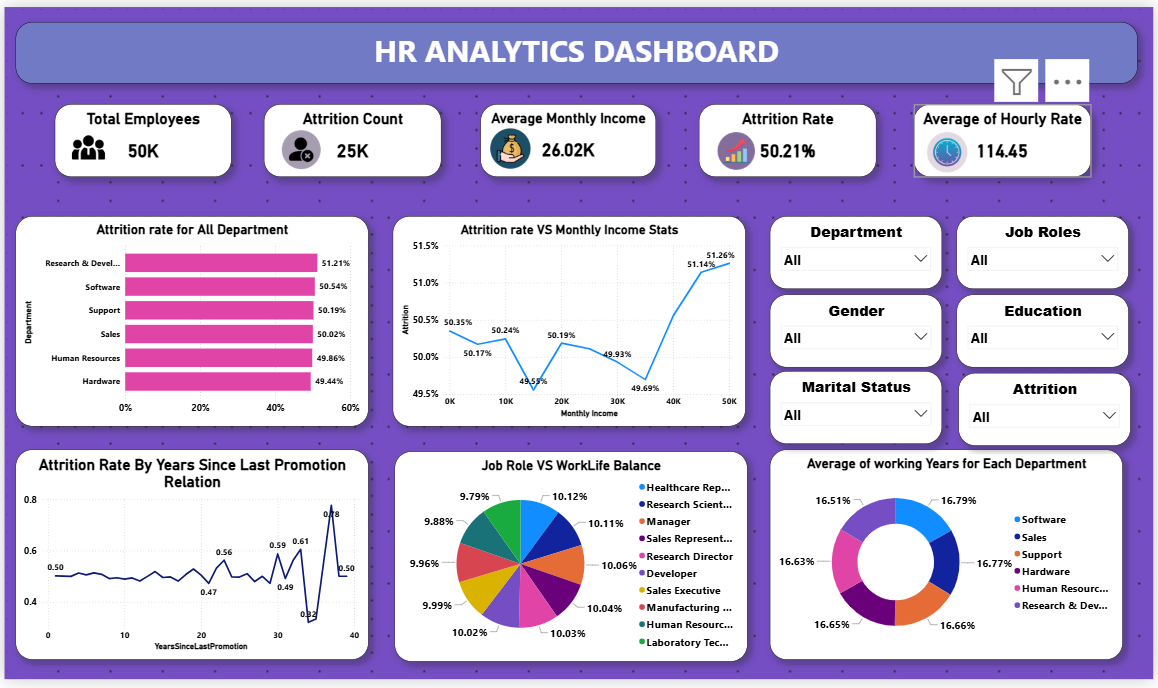

Layout of this report page (visuals, bound fields, positions):
{"tool":"powerbi","page":{"name":"dashboard","canvas":[2050,1200],"ordinal":6},"visuals":[{"type":"card","title":"Total Employees","fields":{"Values":["Sheet1.total employees"]},"box":[90,172.5,315,130],"z":0},{"type":"card","title":"Attrition Count","fields":{"Values":["Sheet1.attrition count"]},"box":[463.3,173.3,316.7,130],"z":1000},{"type":"card","title":"Average Monthly Income","fields":{"Values":["Avg(Sheet1.Monthly Income)"]},"box":[850,173.3,313.3,130],"z":2000},{"type":"card","title":"Attrition Rate","fields":{"Values":["Sheet1.attrition rate"]},"box":[1240,173.3,316.7,130],"z":3000},{"type":"clusteredBarChart","title":"Attrition rate for All Department","fields":{"Category":["Sheet1.Department"],"Y":["Sheet1.attrition rate"]},"box":[20,372.5,630,375],"z":4000},{"type":"textbox","box":[20,26.7,2003.3,110],"z":5000},{"type":"card","title":"Average of Hourly Rate","fields":{"Values":["Avg(Sheet1.HourlyRate)"]},"box":[1623.3,173.3,316.7,130],"z":6000},{"type":"lineChart","title":"Attrition rate VS Monthly Income Stats","fields":{"Category":["Sheet1.Monthly Income (bins)"],"Y":["Sheet1.attrition rate"]},"box":[692.5,372.5,630,375],"z":7000},{"type":"donutChart","title":"Average of working Years for Each Department","fields":{"Category":["Sheet1.Department"],"Y":["Avg(Sheet1.TotalworkingYears)"]},"box":[1366.7,790,630,375],"z":8000},{"type":"pieChart","title":"Job Role VS WorkLife Balance ","fields":{"Category":["Sheet1.JobRole"],"Y":["Sum(Sheet1.WorkLife Balance)"]},"box":[696.7,793.3,630,375],"z":9000},{"type":"lineChart","title":"Attrition Rate By Years Since Last Promotion Relation","fields":{"Category":["Sheet1.YearsSinceLastPromotion"],"Y":["Sheet1.attrition rate"]},"box":[20,790,630,375],"z":10000},{"type":"slicer","title":"Department","fields":{"Values":["Sheet1.Department"]},"box":[1365,372.5,307,130],"z":11000},{"type":"slicer","title":"Gender","fields":{"Values":["Sheet1.Gender"]},"box":[1365,512.5,307.5,130],"z":12000},{"type":"slicer","title":"Job Roles","fields":{"Values":["Sheet1.JobRole"]},"box":[1701.2,372.5,307.5,130],"z":13000},{"type":"slicer","title":"Education","fields":{"Values":["Sheet1.Education"]},"box":[1701.2,512.5,307.5,130],"z":13001},{"type":"slicer","title":"Marital Status","fields":{"Values":["Sheet1.MaritalStatus"]},"box":[1365,651.2,307.5,130],"z":13002},{"type":"slicer","title":"Attrition ","fields":{"Values":["Sheet1.Attrition"]},"box":[1702.5,652.5,307.5,130],"z":13003},{"type":"image","box":[0,208.6,300,81.4],"z":13004},{"type":"image","box":[752,218,300,72],"z":13005},{"type":"image","box":[379.2,219.2,300,69.2],"z":13006},{"type":"image","box":[1155.5,222.7,300,67.3],"z":13007},{"type":"image","box":[1531.8,222.7,300,71.8],"z":13008}]}

Visuals, with their boxes in screenshot pixels (x1, y1, x2, y2), scaled from the page's 2050x1200 canvas onto the 1158x688 screenshot:
"Total Employees" card: bbox(51, 99, 229, 173)
"Attrition Count" card: bbox(262, 99, 441, 174)
"Average Monthly Income" card: bbox(480, 99, 657, 174)
"Attrition Rate" card: bbox(700, 99, 879, 174)
"Attrition rate for All Department" clusteredBarChart: bbox(11, 214, 367, 429)
textbox: bbox(11, 15, 1143, 78)
"Average of Hourly Rate" card: bbox(917, 99, 1096, 174)
"Attrition rate VS Monthly Income Stats" lineChart: bbox(391, 214, 747, 429)
"Average of working Years for Each Department" donutChart: bbox(772, 453, 1128, 668)
"Job Role VS WorkLife Balance " pieChart: bbox(394, 455, 749, 670)
"Attrition Rate By Years Since Last Promotion Relation" lineChart: bbox(11, 453, 367, 668)
"Department" slicer: bbox(771, 214, 944, 288)
"Gender" slicer: bbox(771, 294, 945, 368)
"Job Roles" slicer: bbox(961, 214, 1135, 288)
"Education" slicer: bbox(961, 294, 1135, 368)
"Marital Status" slicer: bbox(771, 373, 945, 448)
"Attrition " slicer: bbox(962, 374, 1135, 449)
image: bbox(0, 120, 169, 166)
image: bbox(425, 125, 594, 166)
image: bbox(214, 126, 384, 165)
image: bbox(653, 128, 822, 166)
image: bbox(865, 128, 1035, 169)
